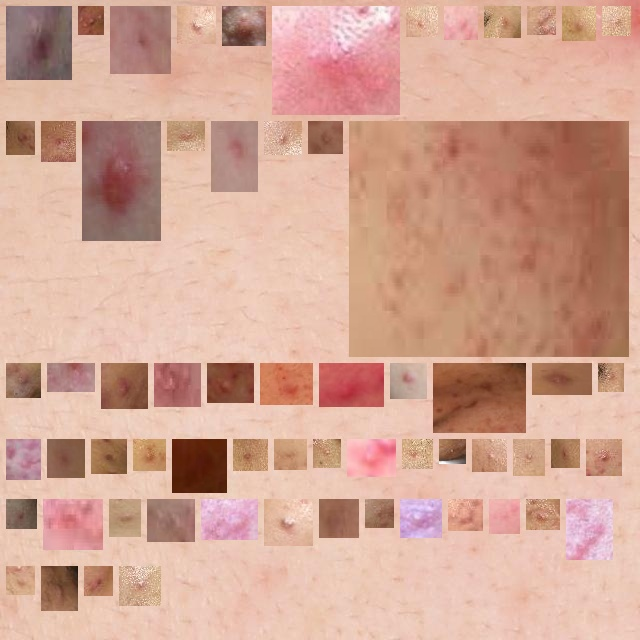papule: (357, 129, 621, 349), (280, 14, 392, 107), (90, 129, 153, 233), (441, 371, 518, 425), (14, 14, 64, 72), (118, 14, 163, 66), (219, 129, 250, 184), (51, 507, 95, 542), (180, 447, 219, 485), (574, 507, 605, 552), (327, 371, 376, 399), (209, 507, 250, 532), (272, 507, 305, 538), (268, 371, 305, 397), (109, 371, 140, 401), (162, 371, 193, 399), (155, 507, 187, 534), (215, 371, 246, 395), (355, 447, 388, 469), (540, 371, 584, 387), (230, 14, 258, 38), (55, 363, 87, 384), (127, 574, 153, 598), (49, 574, 70, 603), (408, 507, 434, 530), (327, 507, 351, 530), (185, 14, 208, 36), (55, 447, 77, 470), (49, 129, 68, 154), (14, 447, 33, 472), (398, 371, 419, 391), (594, 447, 614, 468), (272, 129, 294, 147), (99, 447, 119, 466), (14, 371, 33, 390), (117, 507, 133, 529), (570, 14, 588, 33), (492, 14, 513, 30), (521, 447, 537, 468), (452, 14, 470, 32), (316, 129, 335, 146), (480, 447, 499, 464), (175, 129, 197, 143), (241, 447, 260, 463), (456, 507, 475, 523), (497, 507, 512, 526), (141, 447, 158, 463), (534, 507, 552, 522), (282, 447, 299, 462), (414, 14, 430, 29), (14, 129, 27, 147), (410, 447, 425, 461), (14, 507, 29, 521), (610, 14, 623, 28), (92, 574, 105, 588), (535, 14, 548, 27), (559, 447, 572, 460), (373, 507, 386, 520), (14, 574, 27, 587), (321, 447, 333, 460), (86, 14, 96, 27), (606, 371, 616, 384), (447, 447, 458, 456)
